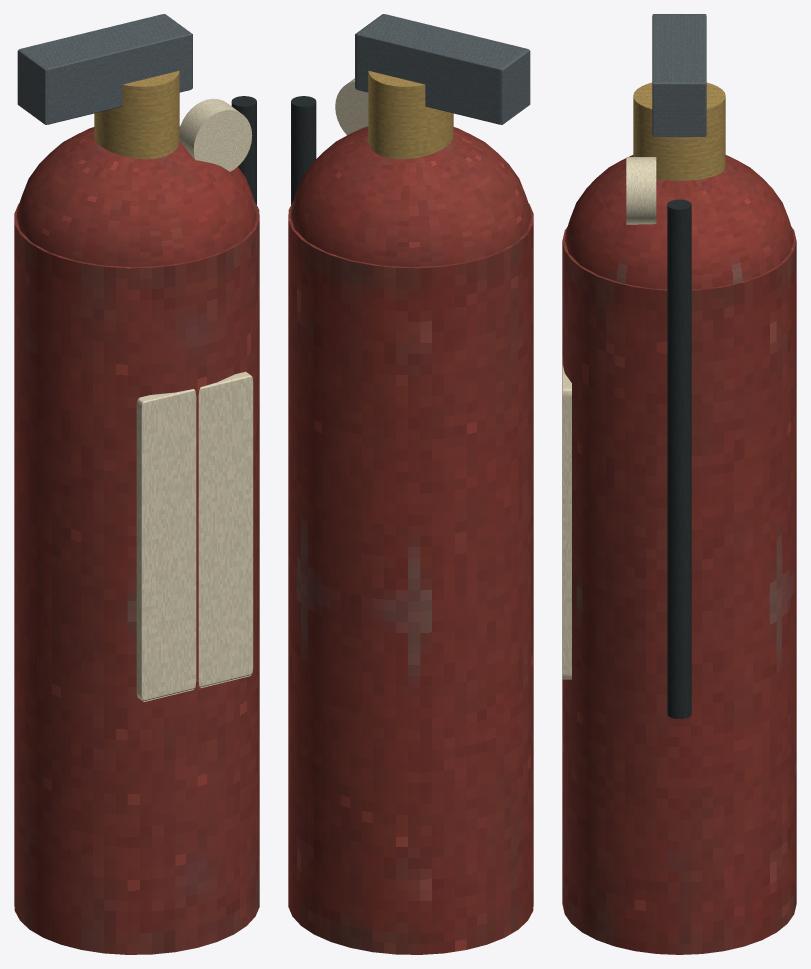
The model's file is extinguisher.glb.
3 views of the same model, side by side, from view 1: azimuth 30°, elevation 25°; view 2: azimuth 150°, elevation 25°; view 3: azimuth 270°, elevation 25° (orthographic). The views are drawn at different scales.
Parts seen in each view (by area): view 1: tank, instruction, shoulder, lever, neck, pressure, hose; view 2: tank, shoulder, lever, neck, hose, pressure; view 3: tank, shoulder, hose, lever, neck, instruction, pressure.
Part boxes in pixels (left/top/right/bottom): tank: left=14, top=201, right=259, bottom=954; instruction: left=136, top=371, right=253, bottom=701; shoulder: left=16, top=126, right=257, bottom=267; lever: left=17, top=14, right=192, bottom=124; neck: left=94, top=70, right=179, bottom=159; pressure: left=179, top=98, right=252, bottom=171; hose: left=231, top=96, right=256, bottom=204; tank: left=288, top=201, right=533, bottom=954; shoulder: left=290, top=126, right=531, bottom=267; lever: left=355, top=14, right=530, bottom=124; neck: left=368, top=70, right=453, bottom=159; hose: left=291, top=96, right=316, bottom=204; pressure: left=335, top=78, right=368, bottom=135; tank: left=562, top=227, right=796, bottom=954; shoulder: left=565, top=155, right=793, bottom=289; hose: left=667, top=199, right=691, bottom=718; lever: left=652, top=14, right=706, bottom=136; neck: left=633, top=82, right=725, bottom=180; instruction: left=562, top=365, right=571, bottom=679; pressure: left=626, top=157, right=656, bottom=224.
Bounding box in the file's own units: 0.148 × 0.5457 × 0.1376.
5 materials, 5 textured.
